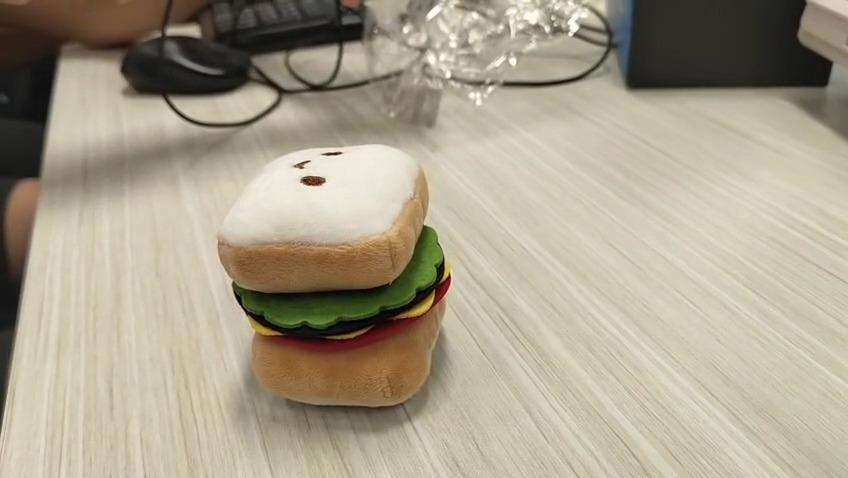objects: (215, 145, 453, 409)
